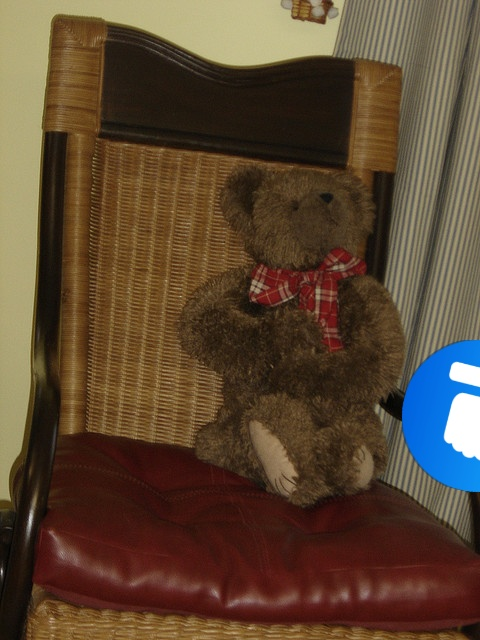like: (402, 340, 480, 492)
